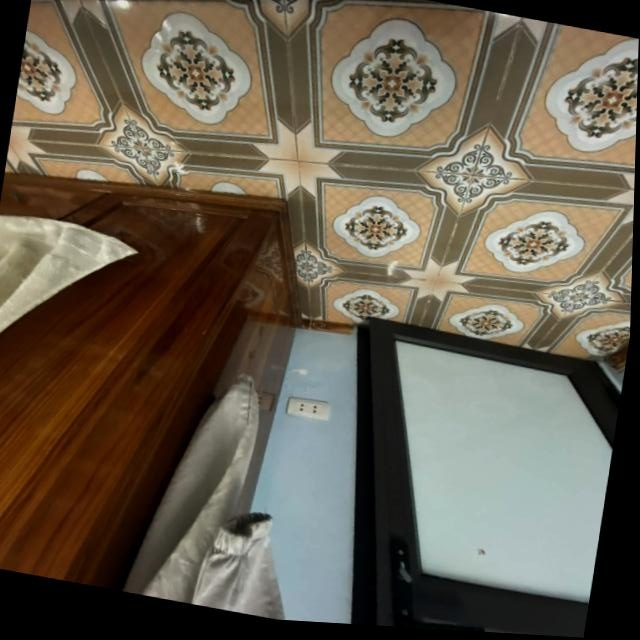outlet: (286, 394, 332, 421)
